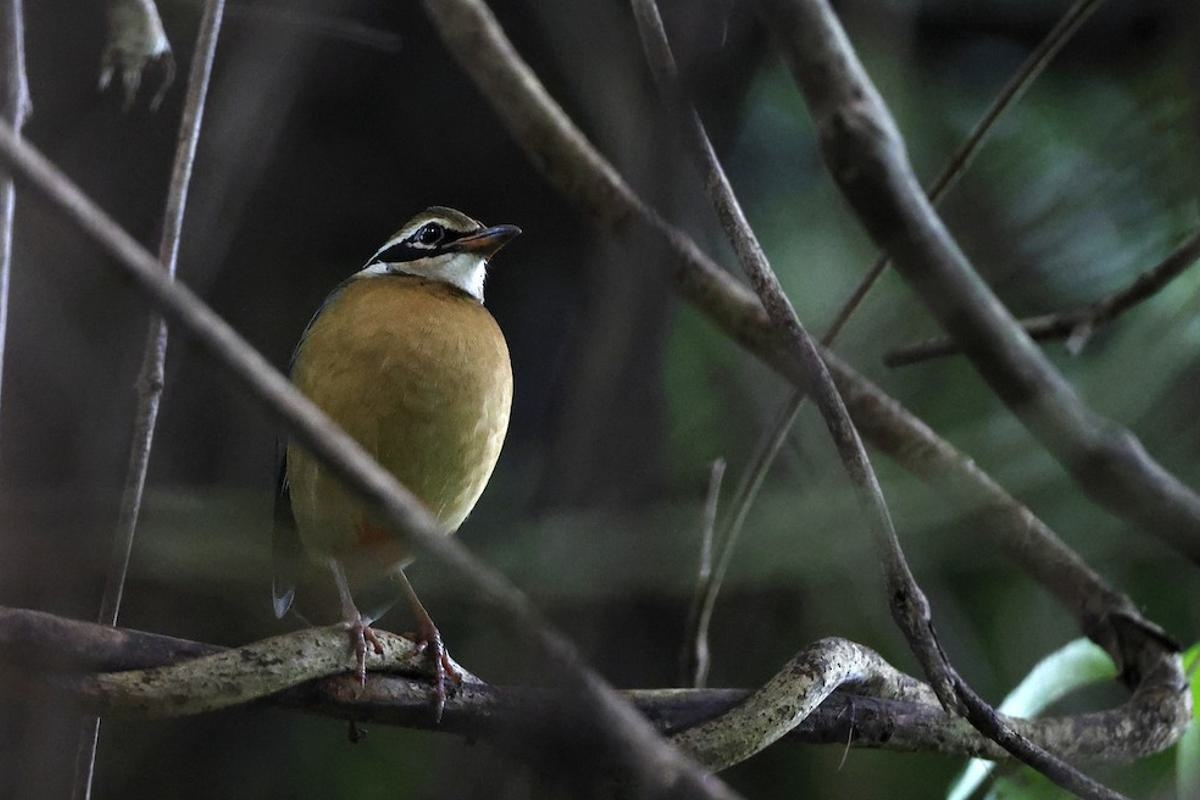pitta: (253, 173, 554, 673)
